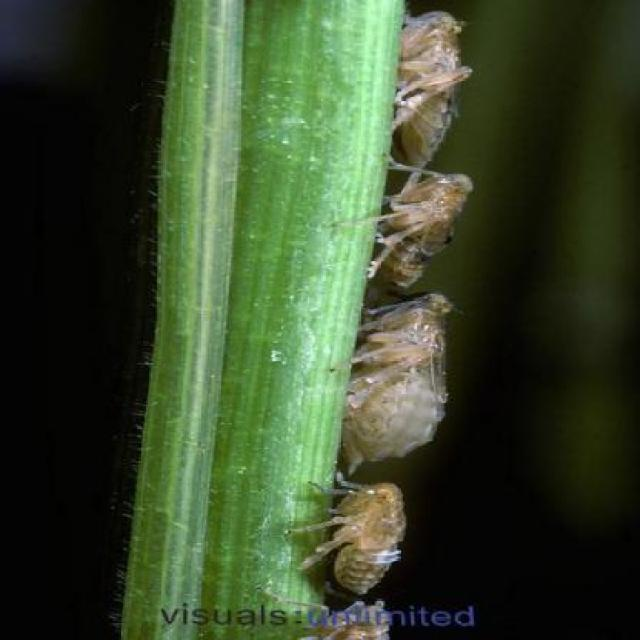brown-planthopper: (357, 306, 460, 466), (397, 13, 463, 159), (393, 166, 473, 285), (322, 486, 401, 594)
